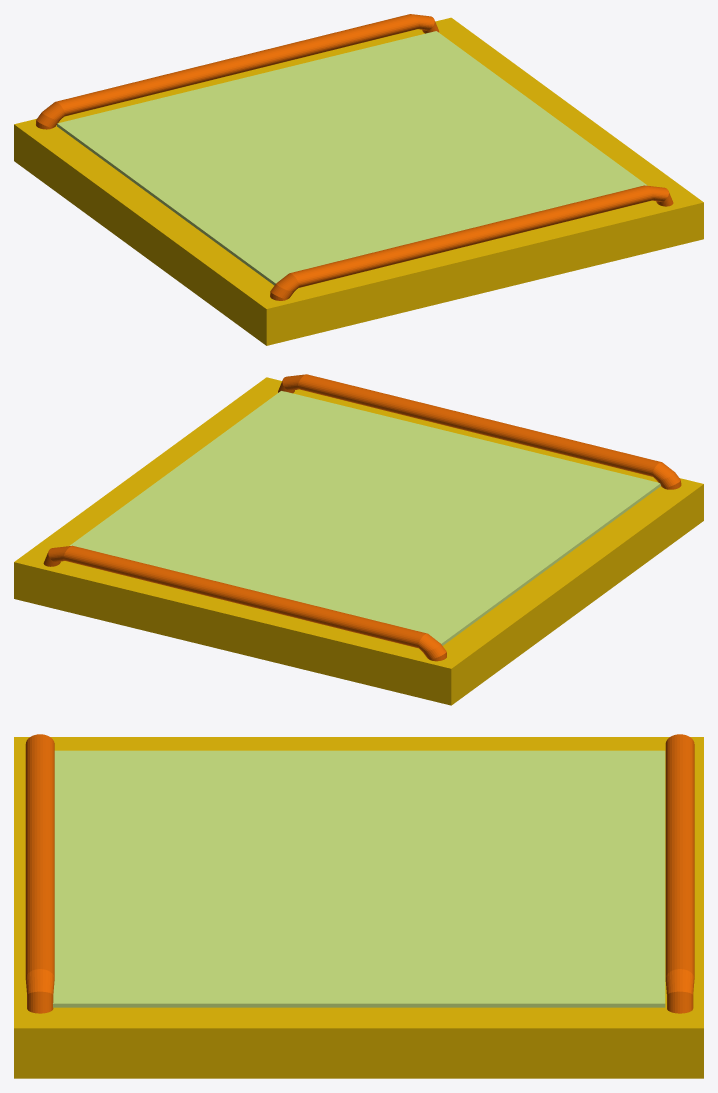
The model's file is moving platform short.fbx.
The picture shows the model from 3 angles, top to bottom: view 1: azimuth 30°, elevation 25°; view 2: azimuth 150°, elevation 25°; view 3: azimuth 270°, elevation 25°; orthographic projection. The views are drawn at different scales.
Visible parts, largest first — view 1: Cube.001, Cube, Cylinder, Cylinder.001; view 2: Cube.001, Cube, Cylinder.001, Cylinder; view 3: Cube.001, Cube, Cylinder.001, Cylinder.
Part boxes in pixels (x1,y1,x2,y2): Cube.001: (57,31,647,285); Cube: (14,17,703,345); Cylinder: (270,185,673,300); Cylinder.001: (36,14,439,129); Cube.001: (69,391,660,645); Cube: (14,377,703,705); Cylinder.001: (43,545,446,661); Cylinder: (278,374,681,489); Cube.001: (53,750,665,1007); Cube: (14,737,703,1078); Cylinder.001: (665,734,694,1013); Cylinder: (25,734,54,1013).
Size of the model in its own units: 1000 by 125 by 1000.
